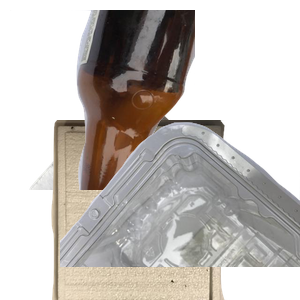glass: (60, 10, 300, 190)
paper: (10, 10, 250, 190)
plastic: (60, 120, 300, 300)
trash: (49, 120, 269, 300)
